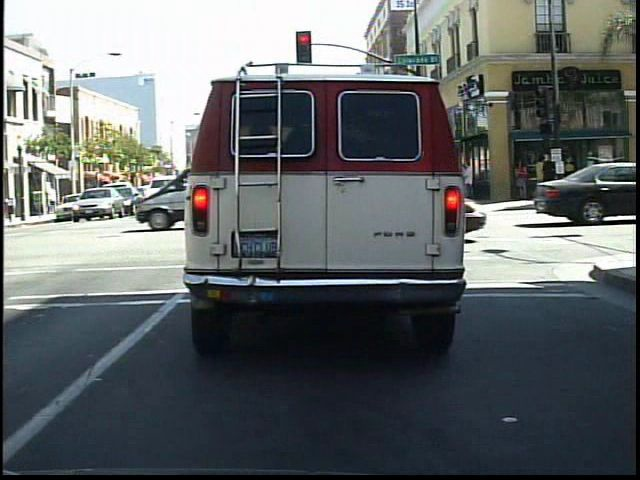person: (538, 153, 561, 207), (511, 157, 533, 204)
